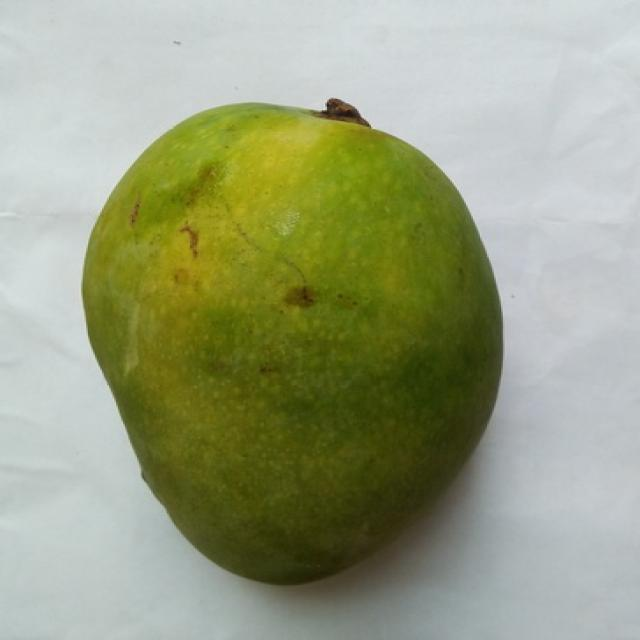Mango: (83, 103, 501, 584)
